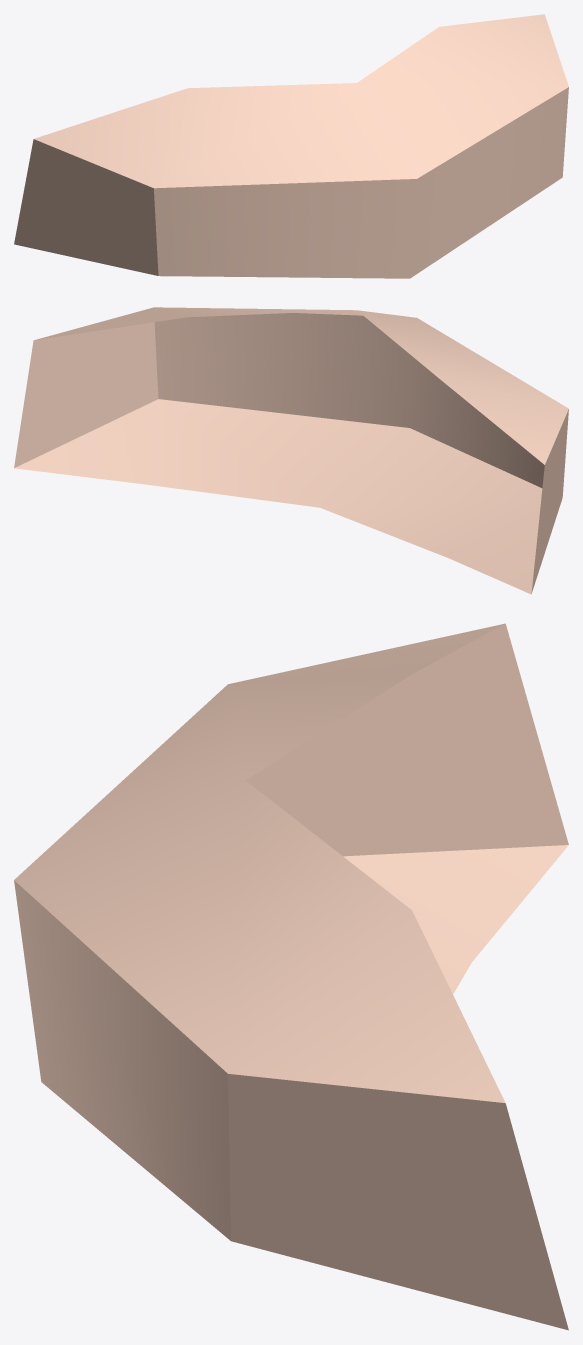
File: Male_Mustache_01_v3.fbx
3 renders of one model, top to bottom at view 1: azimuth 30°, elevation 25°; view 2: azimuth 150°, elevation 25°; view 3: azimuth 270°, elevation 25°, orthographic. The views are drawn at different scales.
Visible parts, largest first — view 1: Male_Mustache_01_v3; view 2: Male_Mustache_01_v3; view 3: Male_Mustache_01_v3.
Part boxes in pixels (box(x1,y1,x2,y2)): Male_Mustache_01_v3: box(14, 14, 568, 278); Male_Mustache_01_v3: box(14, 307, 568, 594); Male_Mustache_01_v3: box(14, 623, 568, 1330).
Bounding box in the file's own units: 23.74 × 7.49 × 11.47.
